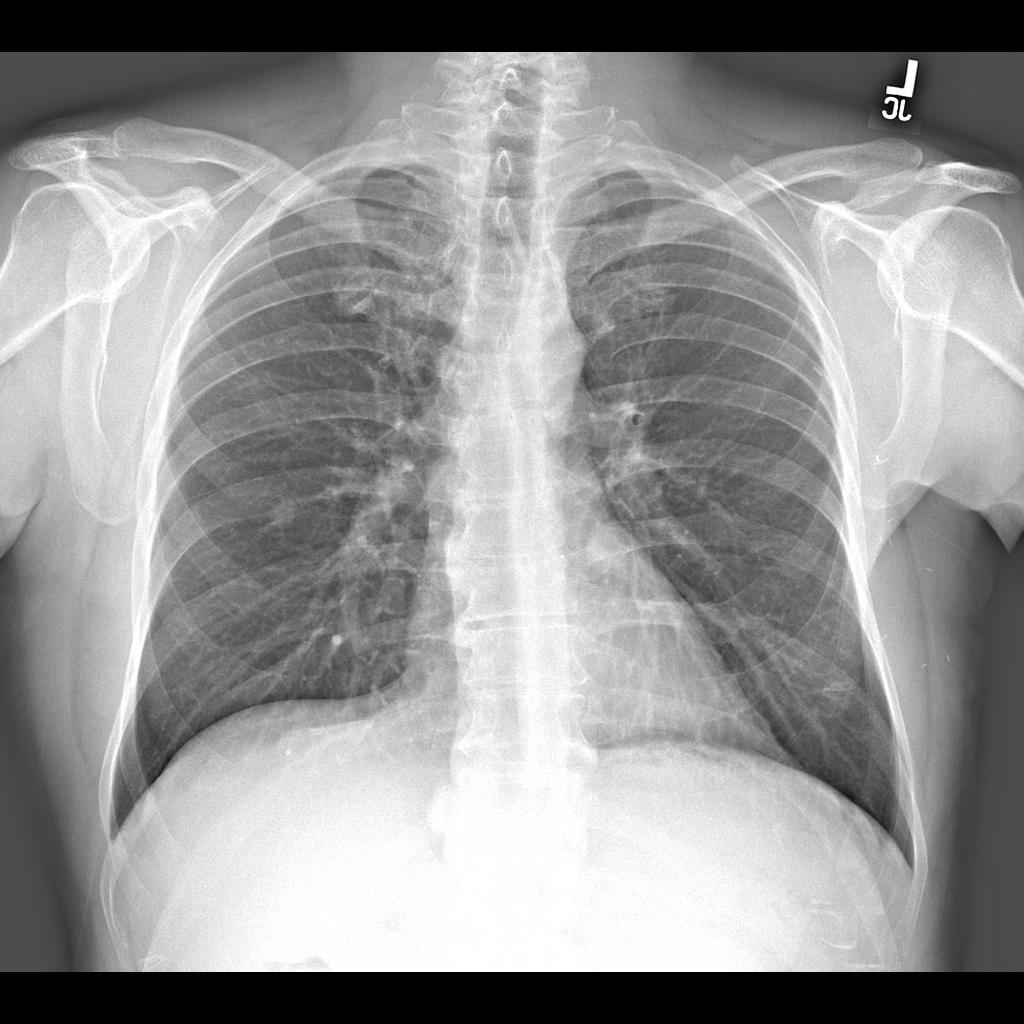Nodule: (581, 518, 639, 576), (265, 490, 305, 532)
